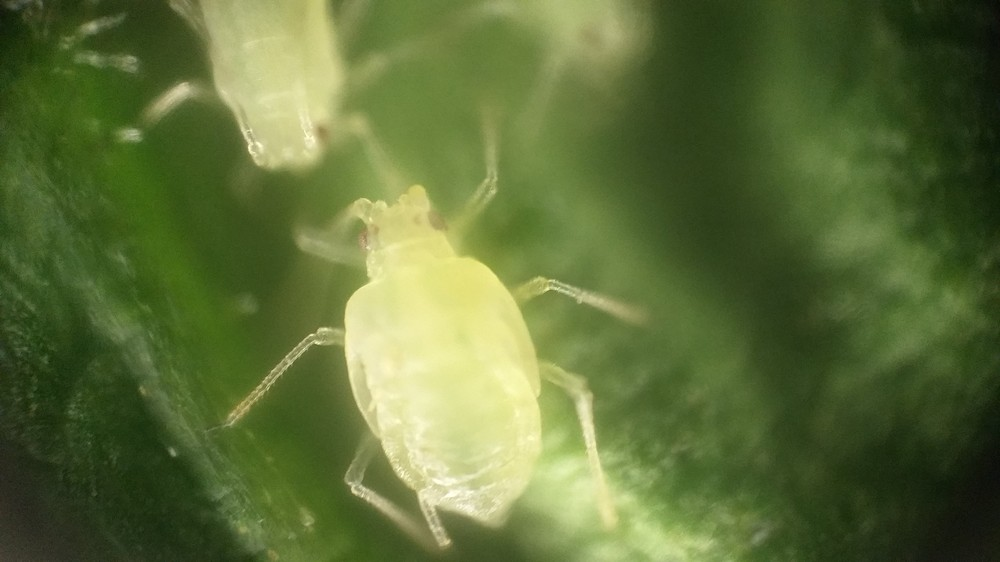Pulgon: (246, 180, 689, 548), (128, 7, 480, 203)
